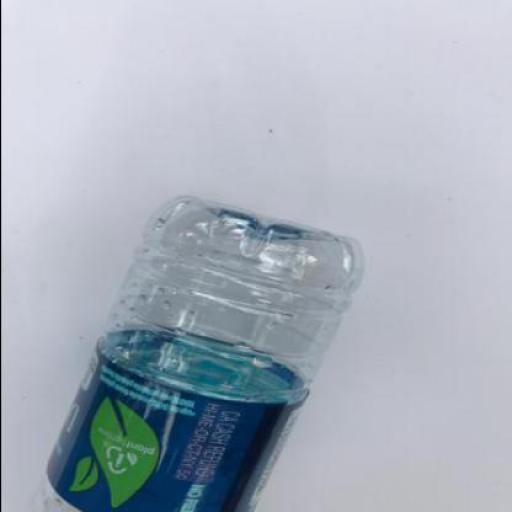plastic: (25, 195, 365, 511), (45, 327, 309, 511)
